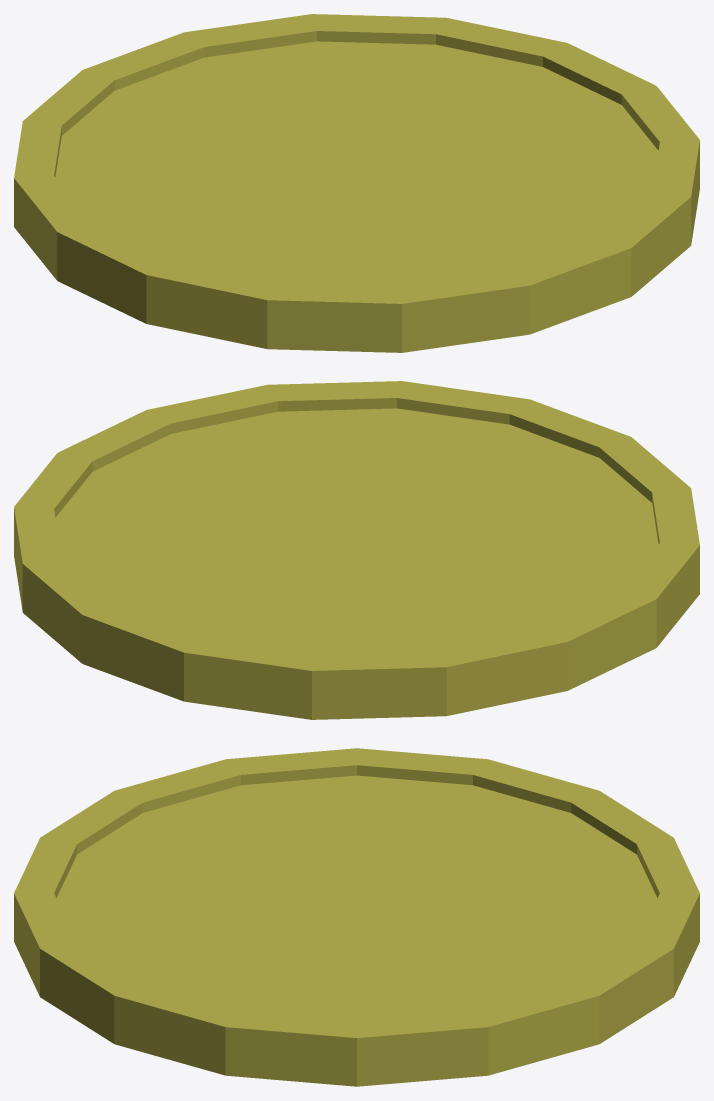
Rendered from Coin.glb.
3 views of the same model, one above another, from view 1: azimuth 30°, elevation 25°; view 2: azimuth 150°, elevation 25°; view 3: azimuth 270°, elevation 25° (orthographic).
Visible parts, largest first — view 1: Cylinder; view 2: Cylinder; view 3: Cylinder.
Part boxes in pixels (<box>): Cylinder: <box>14,14,699,352</box>; Cylinder: <box>14,381,699,719</box>; Cylinder: <box>14,748,699,1086</box>.
Bounding box in the file's own units: 2 × 0.1563 × 2.
1 material, 1 textured.
